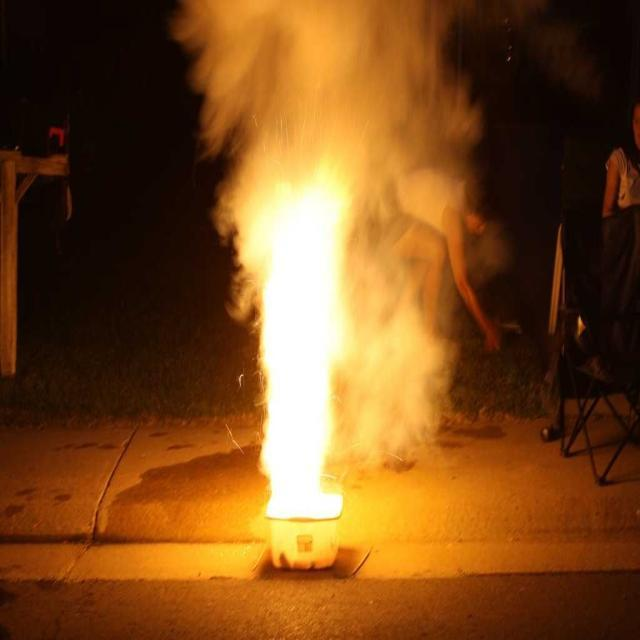Fire: (271, 226, 321, 509)
